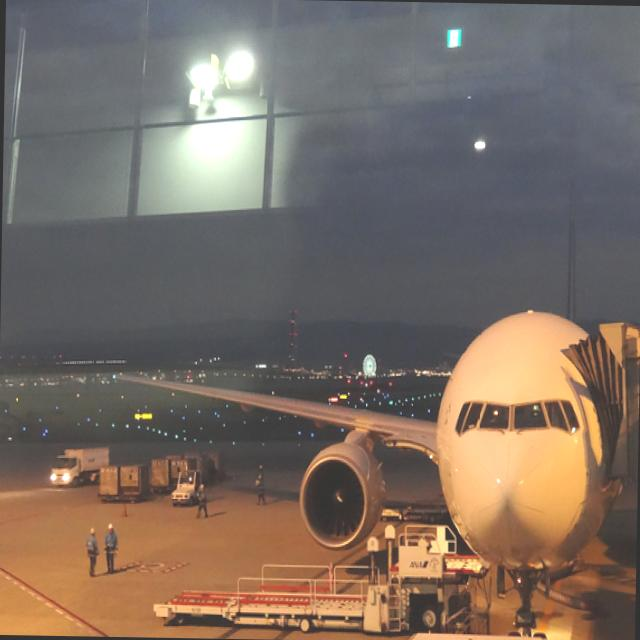Vehicle: (156, 516, 462, 629), (50, 446, 110, 486), (118, 459, 152, 503), (170, 466, 203, 506), (96, 464, 120, 502), (166, 456, 192, 489), (199, 448, 225, 479), (149, 457, 171, 492)
